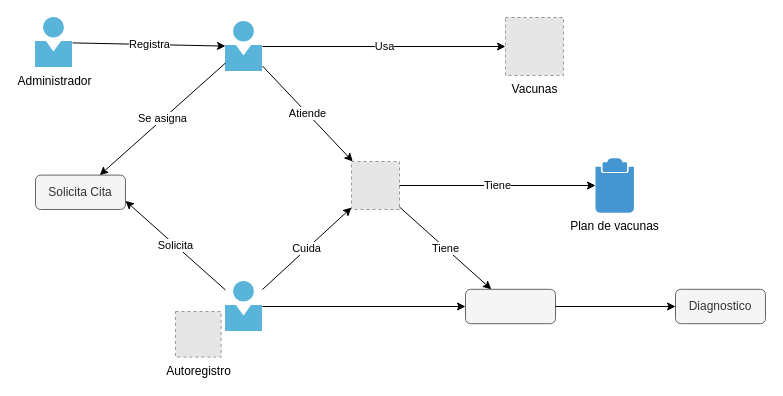
Image size: 783x396. Some labels were removed from this diagram. Grey dashed boxes stand in for pictures. The shapes that lost their labels are listed below. From the top down, each one's box as (x1, y1, x2, y2) in pixels, then its label:
(225, 21, 262, 71): Veterinario
(225, 281, 262, 331): Cuidador
(464, 288, 556, 324): Historia clinica
